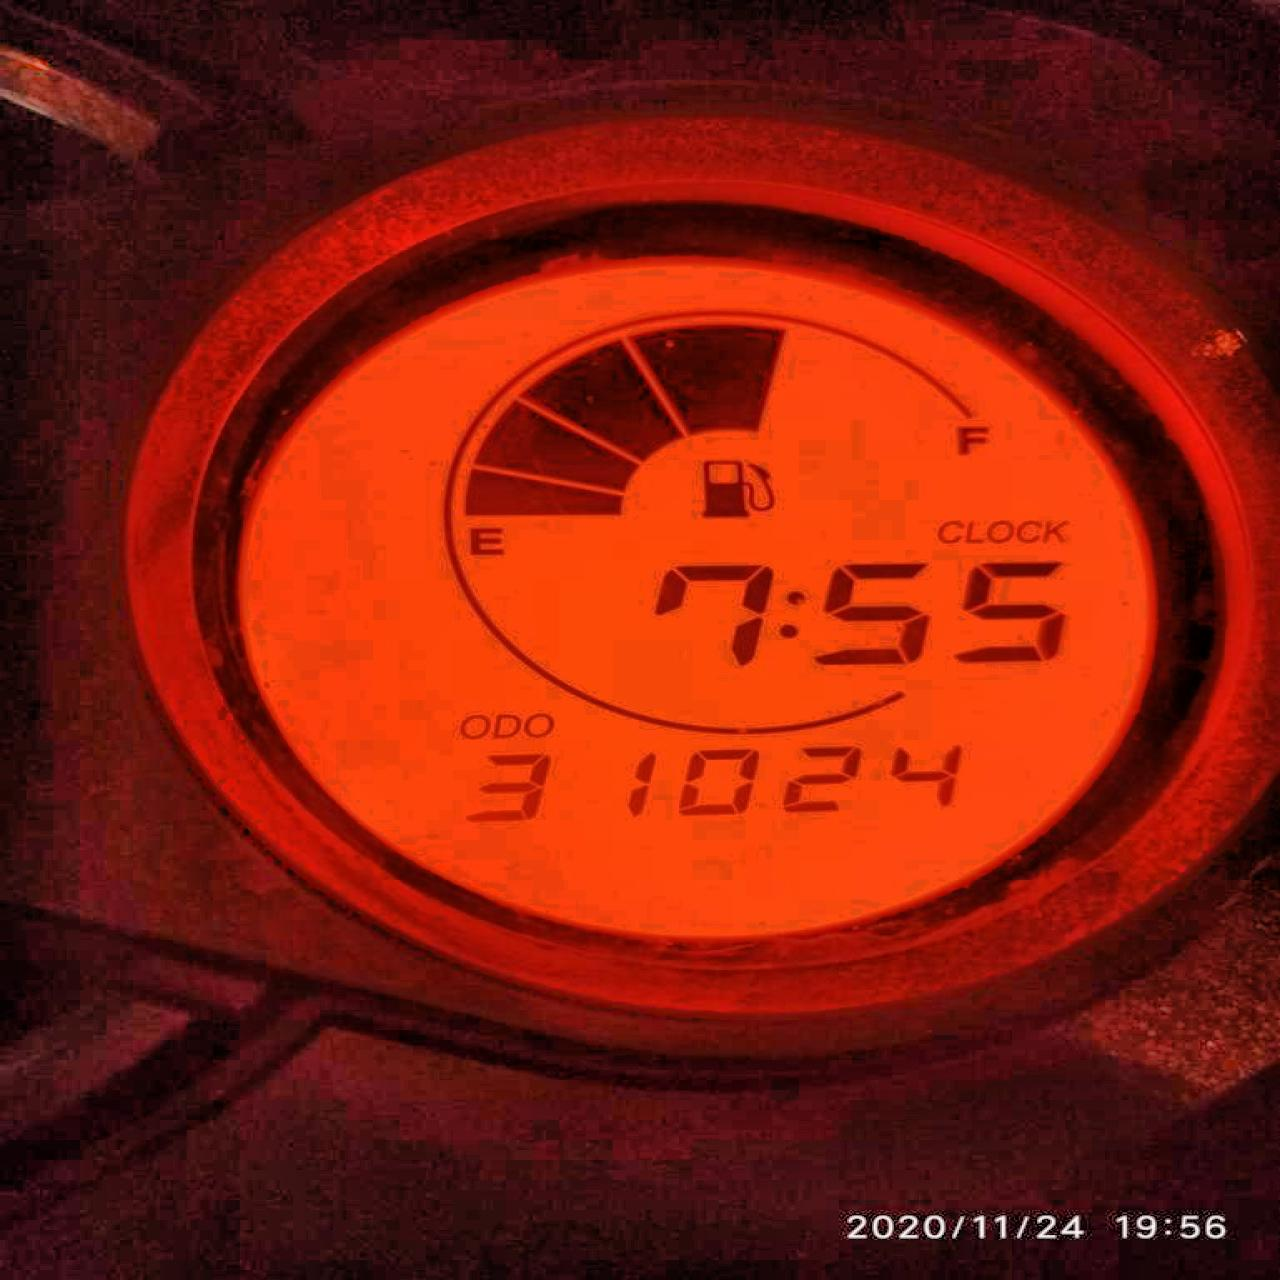0: (674, 747, 760, 815)
1: (625, 751, 655, 817)
2: (781, 745, 860, 811)
3: (463, 753, 550, 822)
4: (885, 742, 960, 806)
5: (955, 559, 1076, 665), (816, 556, 932, 665)
7: (649, 561, 776, 667)
X: (774, 586, 804, 641), (464, 525, 508, 557), (952, 423, 990, 457), (489, 713, 520, 740), (520, 712, 551, 738), (458, 713, 489, 738), (934, 517, 962, 544), (1015, 517, 1043, 543), (986, 517, 1012, 543), (960, 516, 983, 544), (1043, 519, 1070, 540)
odometer: (215, 238, 1185, 953)
